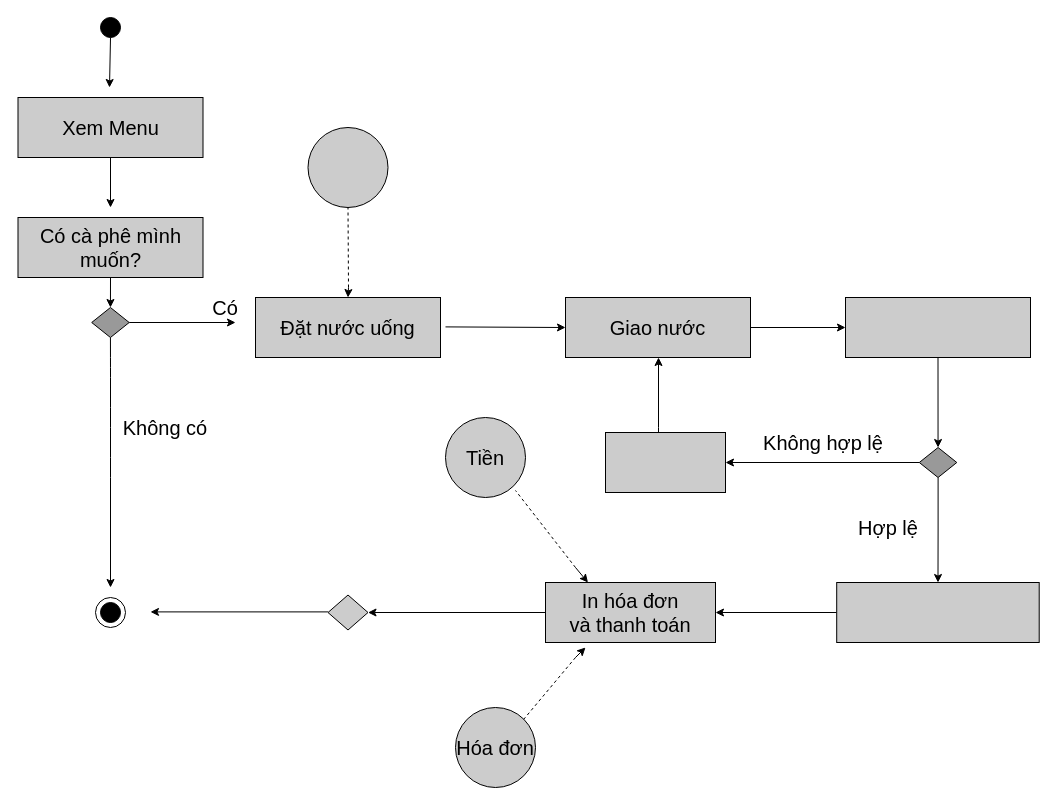
The diagram is 1057 pixels wide and 805 high, and some of its shapes have lost their labels. Each missing label, with the centre of its shape:
"Cà phê" goes at pixel 347 167.
"Dùng cà phê" goes at pixel 937 612.
"Kiểm tra nước" goes at pixel 937 327.
"Đổi nước" goes at pixel 665 462.
